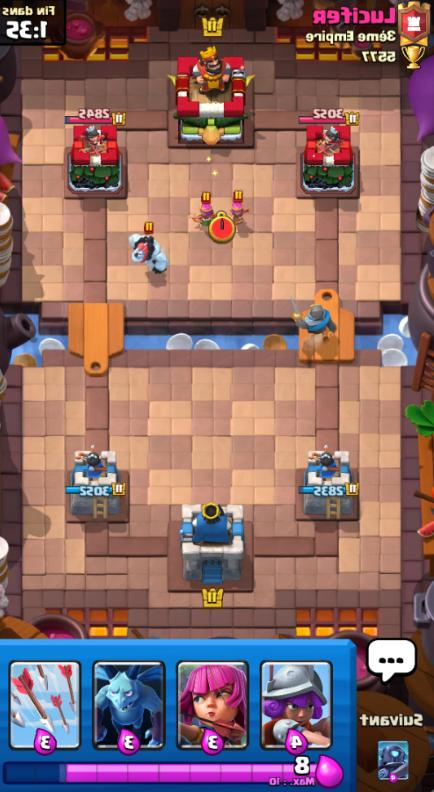archere: (189, 201, 213, 230), (230, 201, 245, 225)
chevalier: (293, 304, 335, 340)
